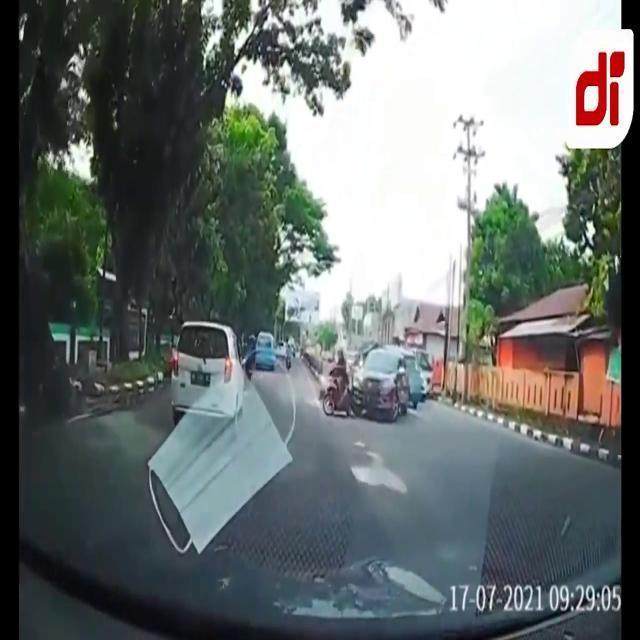accident: (320, 344, 412, 416)
